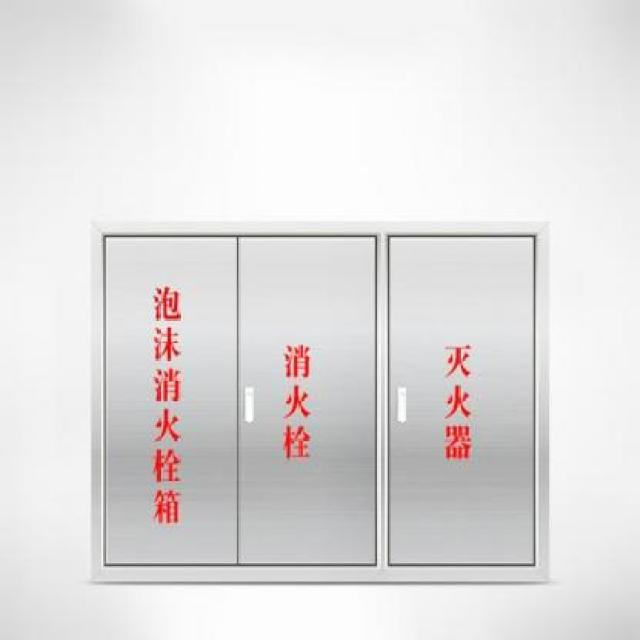firehydrant: (86, 214, 555, 591)
